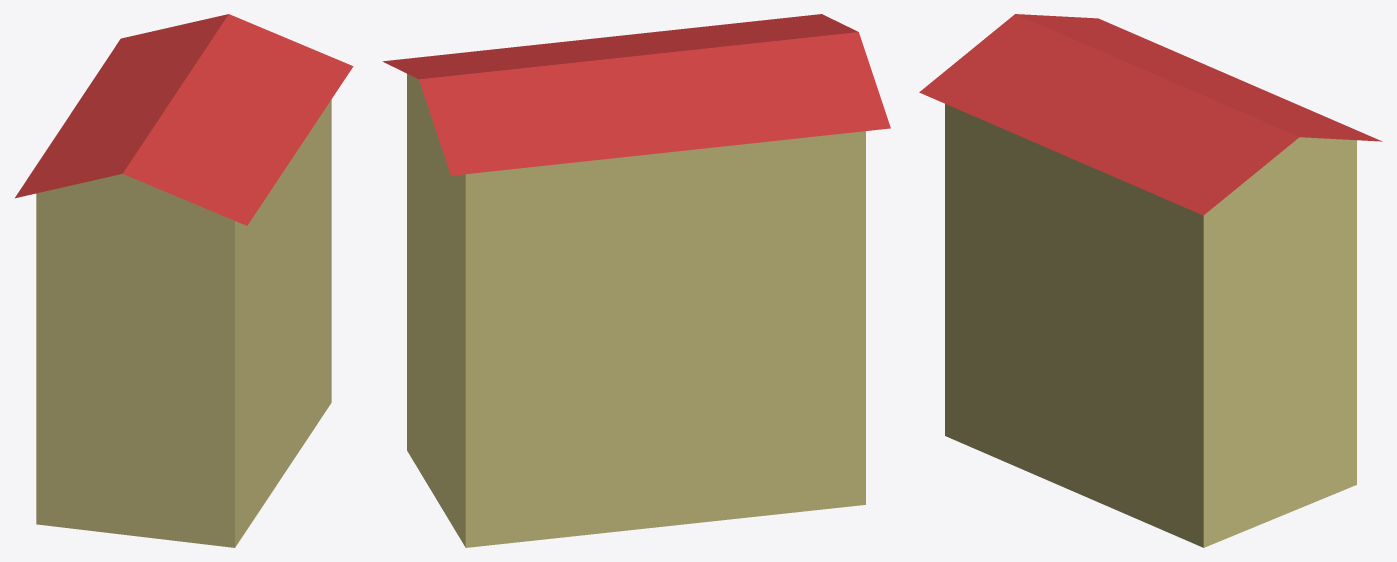
The picture shows the model from 3 angles, left to right: view 1: azimuth 30°, elevation 25°; view 2: azimuth 150°, elevation 25°; view 3: azimuth 270°, elevation 25°; orthographic projection. The views are drawn at different scales.
Bounding box in the file's own units: 6.37 × 6.34 × 5.76.
